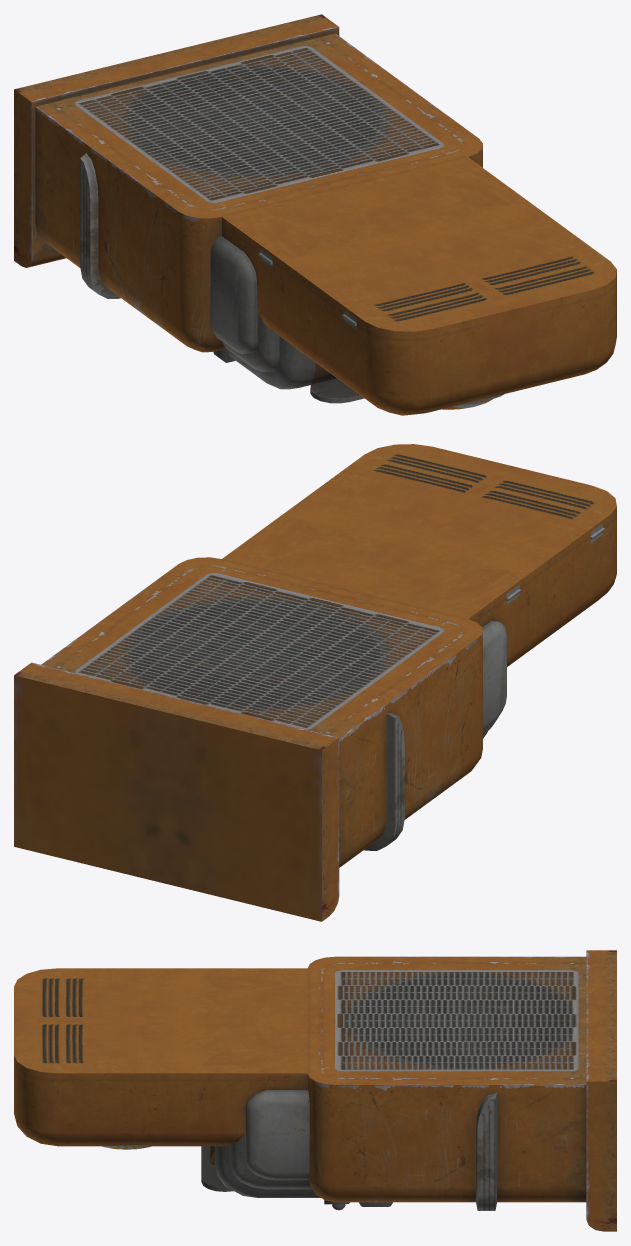
The model's file is staminup.glb.
3 views of the same model, one above another, from view 1: azimuth 30°, elevation 25°; view 2: azimuth 150°, elevation 25°; view 3: azimuth 270°, elevation 25° (orthographic). The views are drawn at different scales.
Visible parts, largest first — view 1: g_body; view 2: g_body; view 3: g_body.
Part boxes in pixels (<box>): g_body: <box>14,14,616,415</box>; g_body: <box>14,444,616,921</box>; g_body: <box>14,950,616,1231</box>.
Size of the model in its own units: 1.18 by 0.6767 by 2.24.
4 materials, 4 textured.
